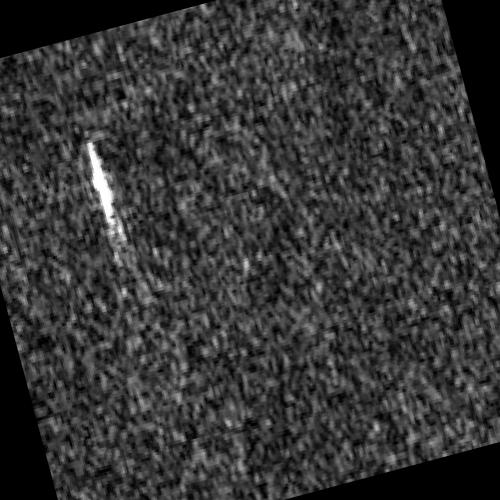ship: (85, 140, 116, 226)
